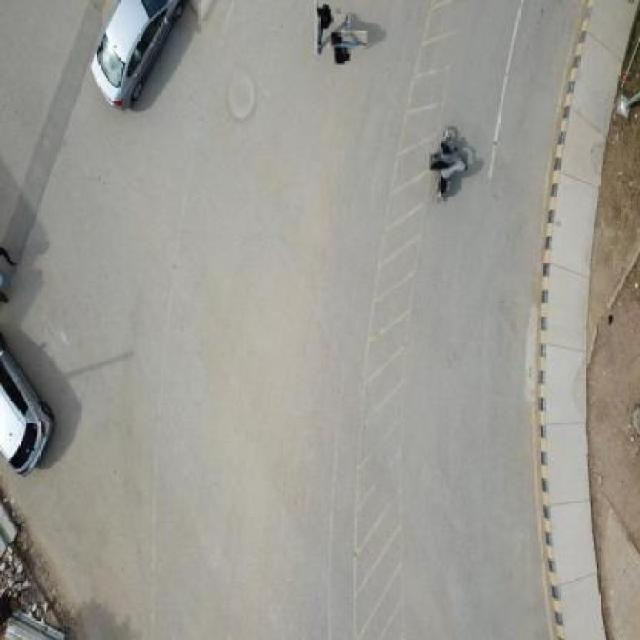Person: (326, 22, 359, 56), (315, 0, 334, 57), (435, 149, 463, 176)
